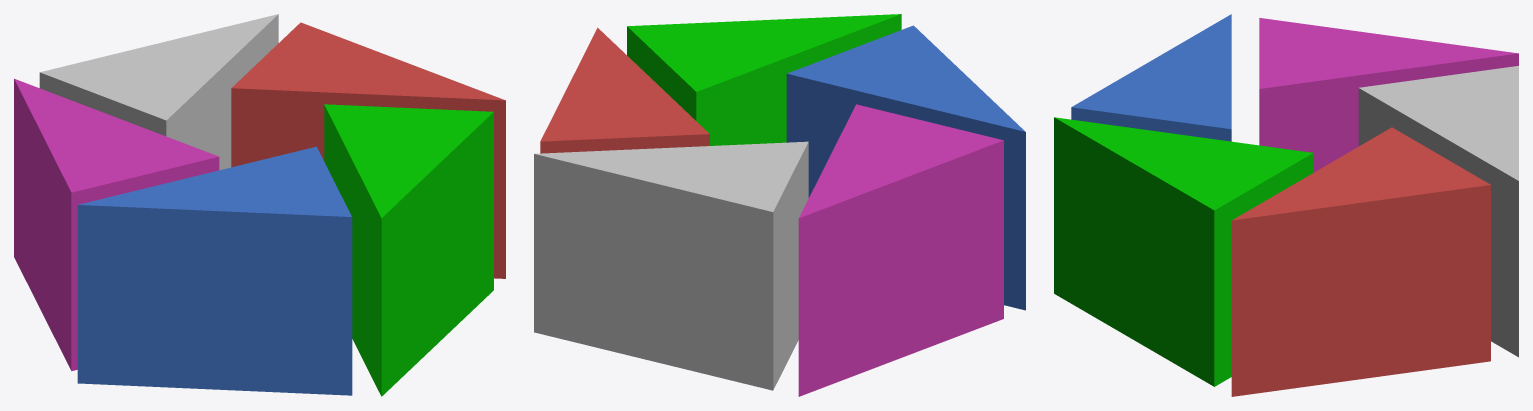
Rendered from Pentagon.fbx.
3 views of the same model, side by side, from view 1: azimuth 30°, elevation 25°; view 2: azimuth 150°, elevation 25°; view 3: azimuth 270°, elevation 25° (orthographic).
Parts seen in each view (by area): view 1: Cylinder; view 2: Cylinder; view 3: Cylinder.
Boxes of the visible parts, x1,y1,x2,y2 form: Cylinder: (14, 14, 505, 396); Cylinder: (534, 14, 1025, 396); Cylinder: (1054, 14, 1518, 396).
Size of the model in its own units: 502 by 200 by 477.
